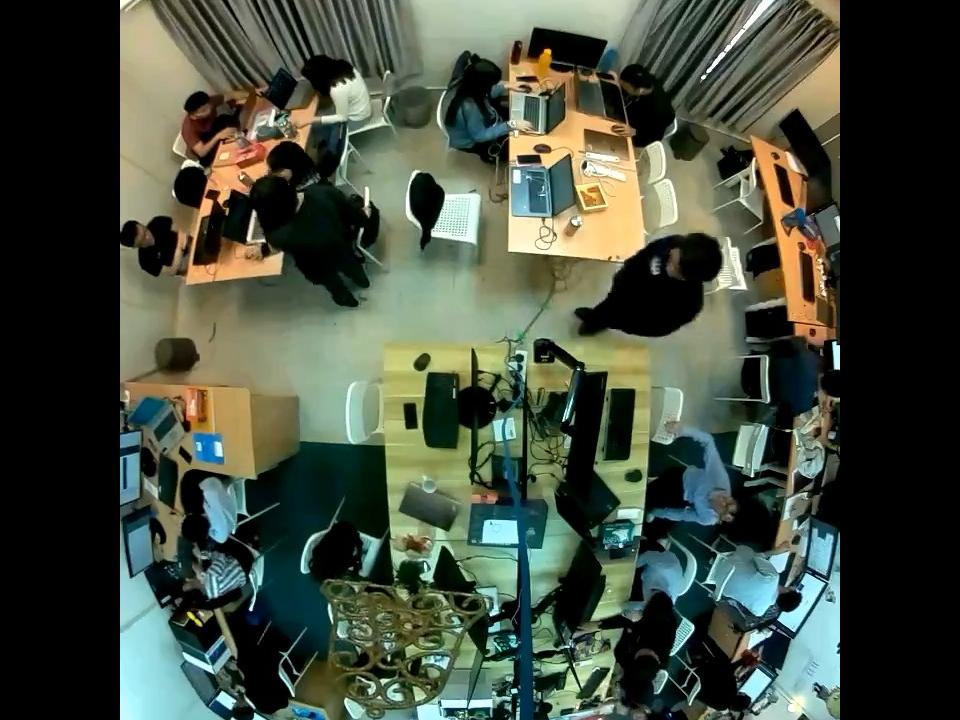name-tag: (648, 252, 665, 274)
